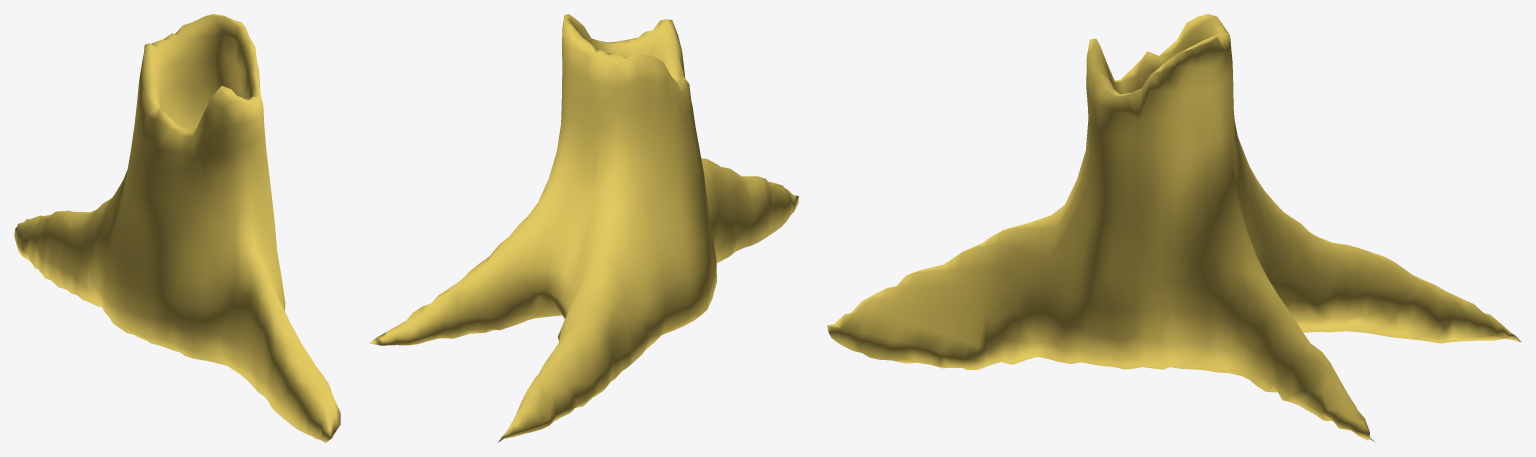
The model's file is Trunk.obj.
3 renders of one model, left to right at view 1: azimuth 30°, elevation 25°; view 2: azimuth 150°, elevation 25°; view 3: azimuth 270°, elevation 25°, orthographic. The views are drawn at different scales.
Parts seen in each view (by area): view 1: Group14219; view 2: Group14219; view 3: Group14219.
Part boxes in pixels (x1,y1,x2,y2): Group14219: (14, 14, 340, 442); Group14219: (369, 14, 798, 442); Group14219: (827, 14, 1521, 442).
Size of the model in its own units: 1165 by 1372 by 2516.
